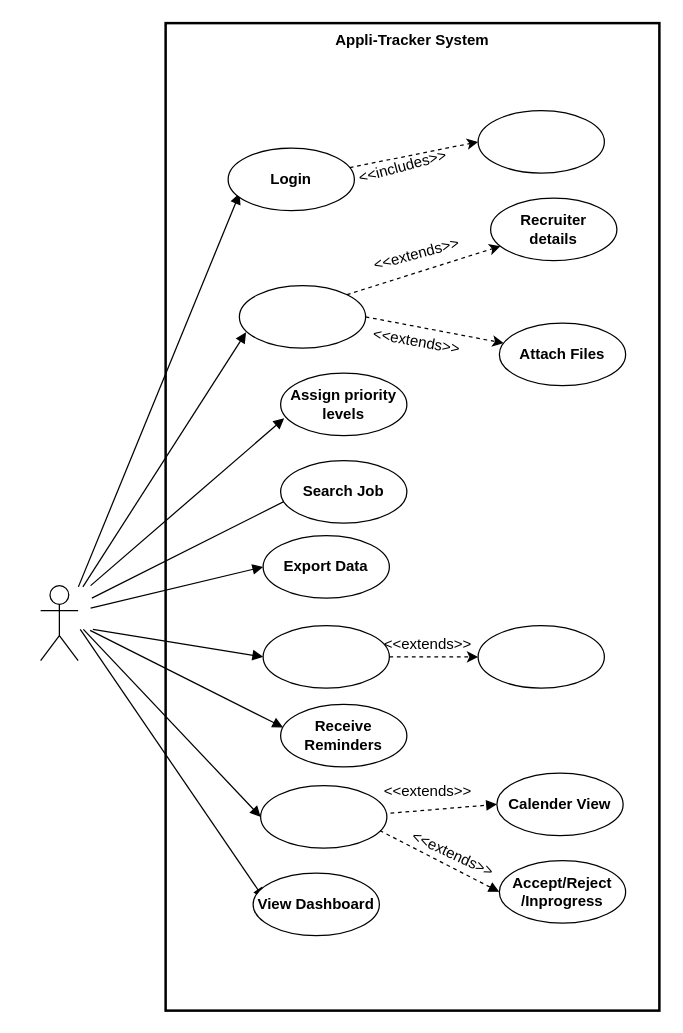
This 683x1033 diagram has some shape labels left out. Each missing label, with the centre of its shape:
Add Job: the point at 302,316
Assessment/ interviews: the point at 540,656
Create Todos: the point at 325,656
Job Seeker: the point at 58,622
SignUp: the point at 540,141
Tracking: the point at 323,816
